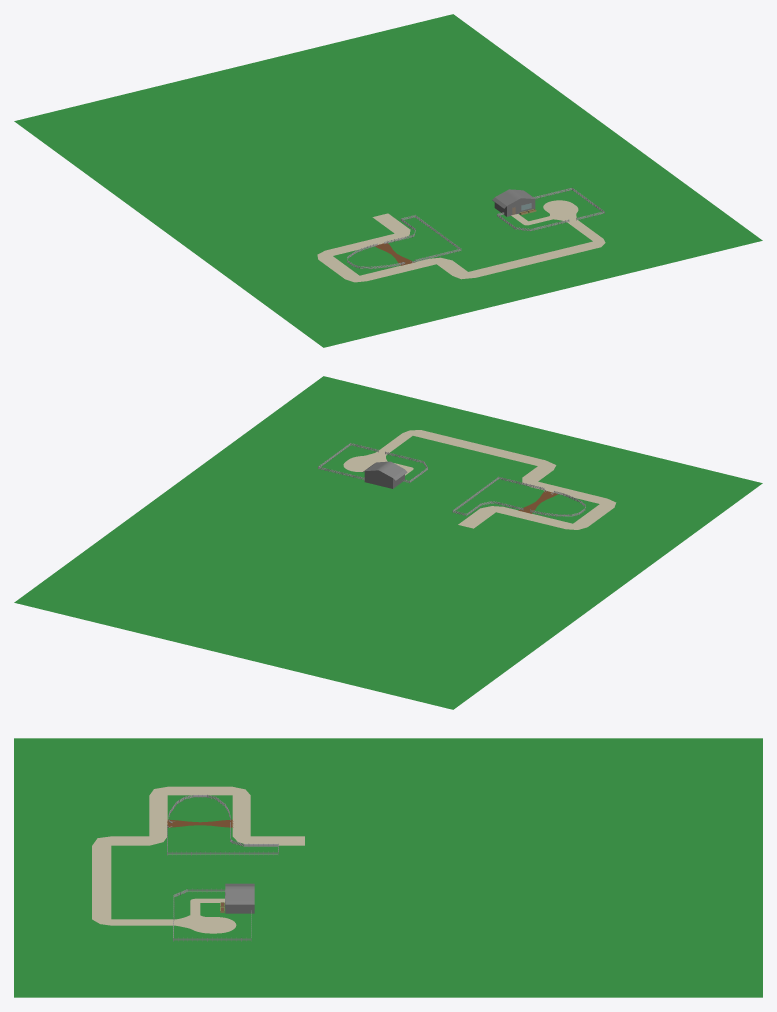
File: PlayerHouse2.fbx
3 renders of one model, top to bottom at view 1: azimuth 30°, elevation 25°; view 2: azimuth 150°, elevation 25°; view 3: azimuth 270°, elevation 25°, orthographic. The views are drawn at different scales.
Parts seen in each view (by area): view 1: pPlane6, polySurface81, pCube1; view 2: pPlane6, polySurface81, pCube1; view 3: pPlane6, polySurface81, pCube1.
Boxes of the visible parts, <box> form: pPlane6: <box>14,14,762,347</box>; polySurface81: <box>317,200,605,282</box>; pCube1: <box>492,189,537,216</box>; pPlane6: <box>14,376,762,709</box>; polySurface81: <box>343,430,616,529</box>; pCube1: <box>362,461,407,488</box>; pPlane6: <box>14,738,762,997</box>; polySurface81: <box>92,786,304,933</box>; pCube1: <box>225,883,254,913</box>.
Bounding box in the file's own units: 3092 × 109 × 3775.
